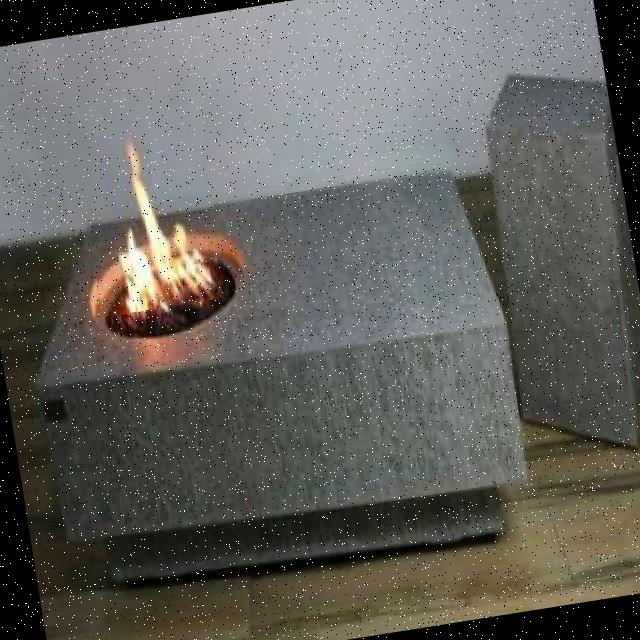fire: (75, 121, 228, 317)
